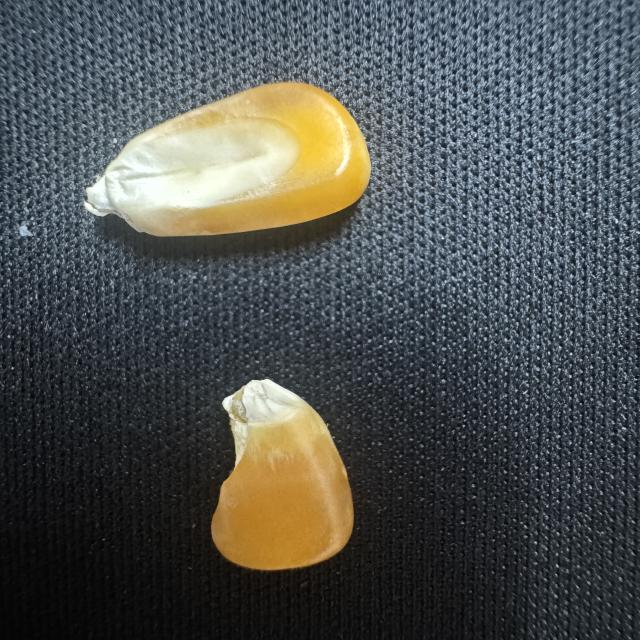Bad-Seed: (206, 374, 360, 574)
Good-Seed: (77, 77, 380, 238)
